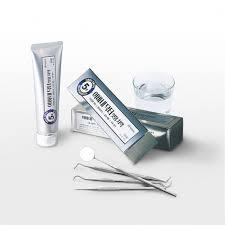toothpaste: (22, 36, 69, 148)
